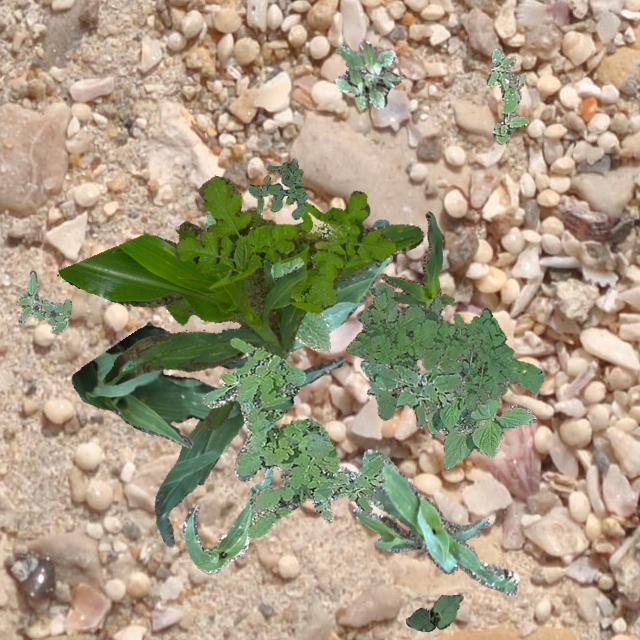crop: (58, 224, 422, 428), (70, 322, 344, 446), (336, 448, 518, 594), (220, 218, 392, 368), (154, 396, 292, 546), (366, 362, 536, 471), (204, 210, 330, 352), (182, 464, 272, 574), (380, 210, 452, 308), (404, 594, 462, 630)
weed: (174, 175, 396, 312), (200, 336, 338, 536), (344, 282, 544, 419), (164, 208, 274, 324), (359, 360, 464, 428), (308, 454, 382, 522), (334, 40, 402, 108), (486, 48, 528, 144), (246, 158, 306, 218), (15, 270, 70, 334)
